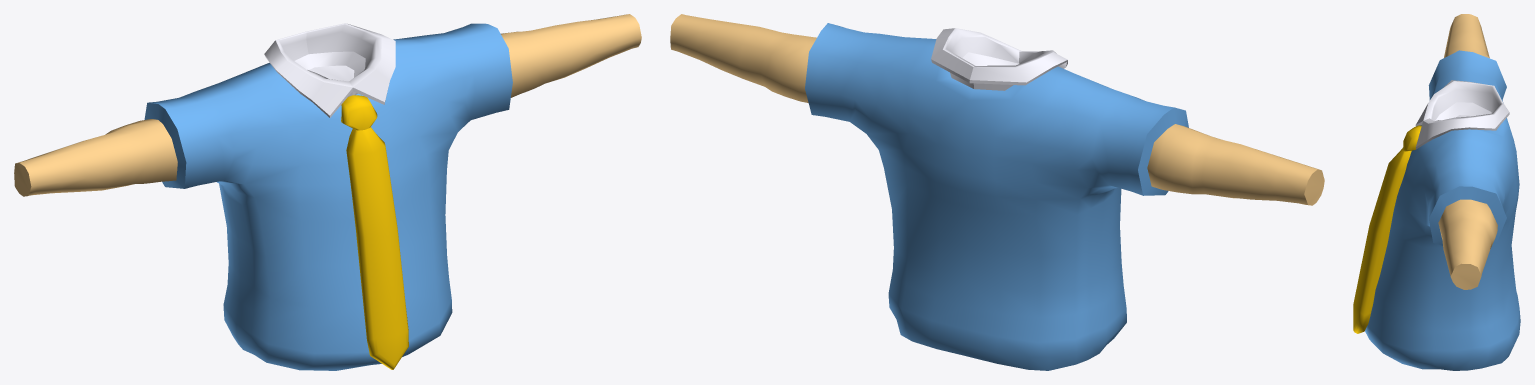
Rendered from Torso_02_01.fbx.
3 renders of one model, left to right at view 1: azimuth 30°, elevation 25°; view 2: azimuth 150°, elevation 25°; view 3: azimuth 270°, elevation 25°, orthographic. The views are drawn at different scales.
Visible parts, largest first — view 1: Torso_02_01; view 2: Torso_02_01; view 3: Torso_02_01.
Part boxes in pixels (x1,y1,x2,y2): Torso_02_01: [14, 14, 641, 370]; Torso_02_01: [670, 14, 1324, 370]; Torso_02_01: [1353, 14, 1520, 370].
Bounding box in the file's own units: 118 × 52.8 × 33.36.
